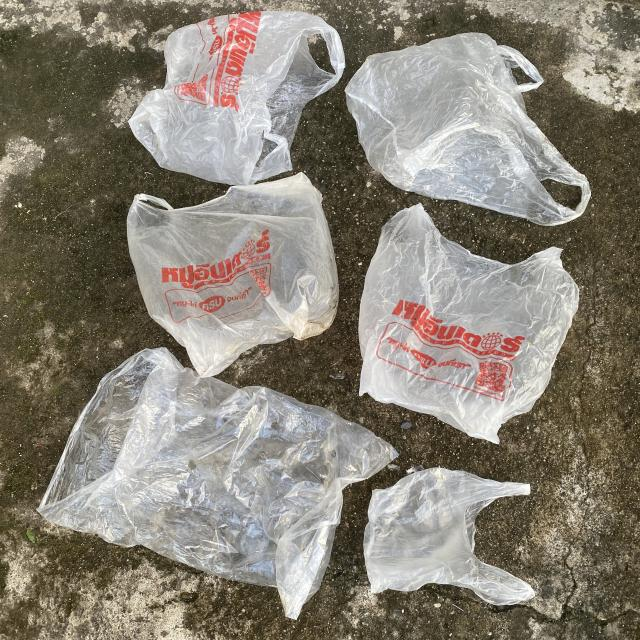Single-layer Plastic: (38, 348, 396, 619), (359, 204, 579, 442), (345, 32, 590, 225), (128, 172, 339, 376), (129, 11, 345, 185), (364, 468, 534, 605)
